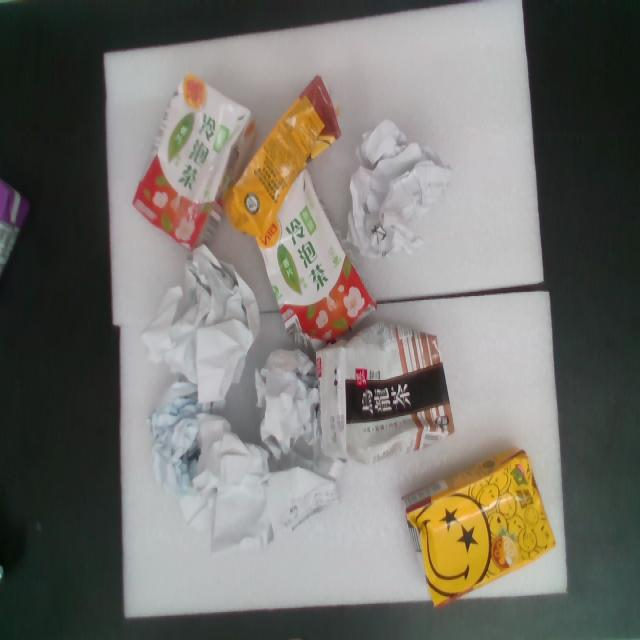juicebox: (209, 155, 391, 366), (105, 56, 278, 273), (201, 55, 378, 254), (376, 437, 576, 612), (293, 306, 474, 470)
paper: (107, 234, 298, 432), (294, 95, 477, 293), (199, 405, 357, 561), (239, 335, 336, 481), (139, 367, 215, 501)
